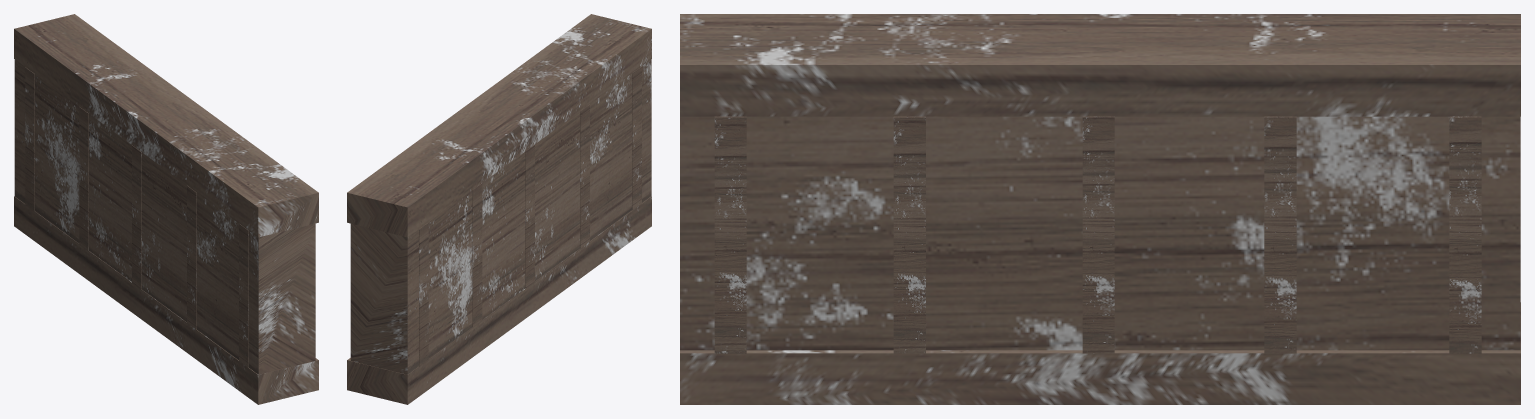
The model's file is roof_pattern_one.fbx.
The picture shows the model from 3 angles, left to right: view 1: azimuth 30°, elevation 25°; view 2: azimuth 150°, elevation 25°; view 3: azimuth 270°, elevation 25°; orthographic projection. The views are drawn at different scales.
Parts seen in each view (by area): view 1: pCube118, pCube106, pCube104, pCube107, pCube111, pCube108, pCube109, pCube110; view 2: pCube118, pCube106, pCube104, pCube110, pCube109, pCube108, pCube111, pCube107; view 3: pCube118, pCube106, pCube104, pCube108, pCube110, pCube109, pCube107, pCube111.
Part boxes in pixels (x1,y1,x2,y2): pCube118: (14,59,315,374); pCube106: (14,14,318,237); pCube104: (14,196,318,404); pCube107: (239,224,248,367); pCube111: (187,185,196,329); pCube108: (25,67,34,211); pCube109: (132,145,141,289); pCube110: (79,107,88,250); pCube118: (350,59,651,374); pCube106: (347,14,651,237); pCube104: (347,196,651,404); pCube110: (472,183,482,326); pCube109: (525,144,534,288); pCube108: (419,222,428,366); pCube111: (580,104,589,248); pCube107: (632,66,641,210); pCube118: (680,116,1520,350); pCube106: (680,14,1520,116); pCube104: (680,302,1520,404); pCube108: (1449,116,1481,353); pCube110: (1264,116,1296,353); pCube109: (1082,116,1114,353); pCube107: (714,116,746,353); pCube111: (893,116,925,353).
Bounding box in the file's own units: 28.74 × 89.3 × 200.
1 material, 1 textured.
